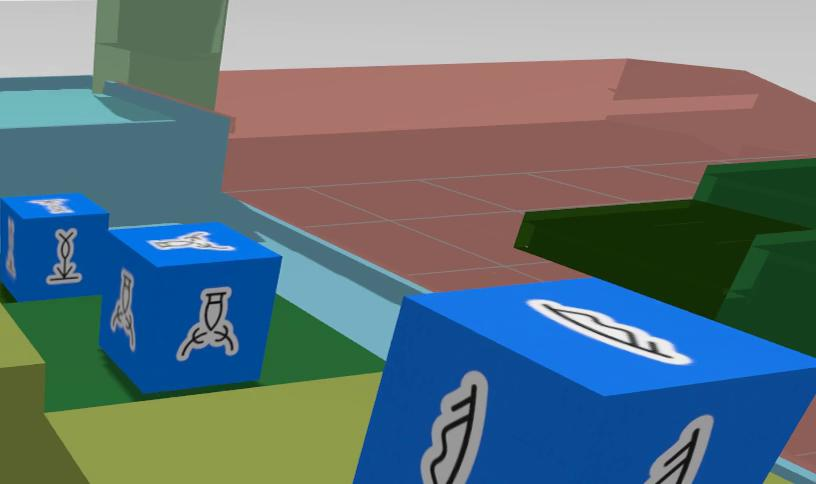KFS_REAL: (352, 278, 815, 484), (99, 222, 280, 391), (1, 192, 108, 300), (527, 299, 691, 363), (420, 371, 487, 484), (643, 415, 712, 484), (177, 288, 236, 361), (110, 269, 134, 350), (47, 228, 81, 283)
